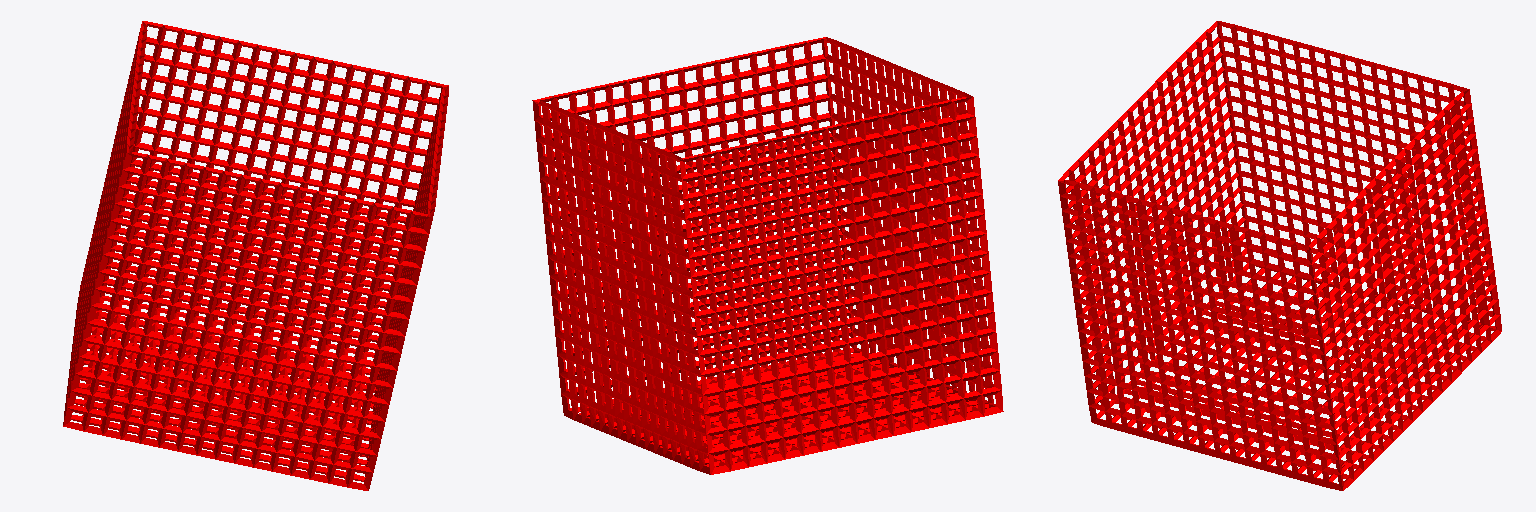
URDF robot description (cube.urdf):
<?xml version="0.0" ?>
<robot name="cube.urdf">
  <link name="baseLink">
    <contact>
      <lateral_friction value="1.0"/>
     
    </contact>
    <inertial>
      <origin rpy="0 0 0" xyz="0 0 -0.15"/>
       <mass value=".0"/>
       <inertia ixx="0" ixy="0" ixz="0" iyy="0" iyz="0" izz="0"/>
    </inertial>
    <visual>
      <origin rpy="0 0 0" xyz="0 0 -0.15"/>
      <geometry>
        <mesh filename="Crate.obj" scale=".005 .005 .005"/>
      </geometry>
       <material name="red">
        <color rgba="1 0 0 1"/>
      </material>
    </visual>
    <collision>
      <origin rpy="0 0 0" xyz="0 0 -0.15"/>
      <geometry>
	 	<mesh filename="Crate.obj" scale=".005 .005 .005"/>
      </geometry>
    </collision>
  </link>
</robot>

--- Facts derived from the render (not from the file) ---
The picture shows the robot from 3 angles, left to right: view 1: azimuth 30°, elevation 25°; view 2: azimuth 150°, elevation 25°; view 3: azimuth 270°, elevation 25°; orthographic projection.
Model cube.urdf with 1 links and 0 joints (none), rooted at baseLink, posed every joint at zero.
Links seen in each view (by area): view 1: baseLink; view 2: baseLink; view 3: baseLink.
Boxes of the visible links, x1,y1,x2,y2 form: baseLink: (63, 21, 448, 490); baseLink: (532, 37, 1003, 474); baseLink: (1058, 21, 1501, 490).
Bounding box of the posed robot: 0.0443 × 0.0427 × 0.034 m (x, y, z).
1 mesh visuals loaded from 1 distinct referenced files (1 OBJ).